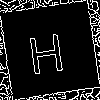H: (25, 24, 67, 75)
